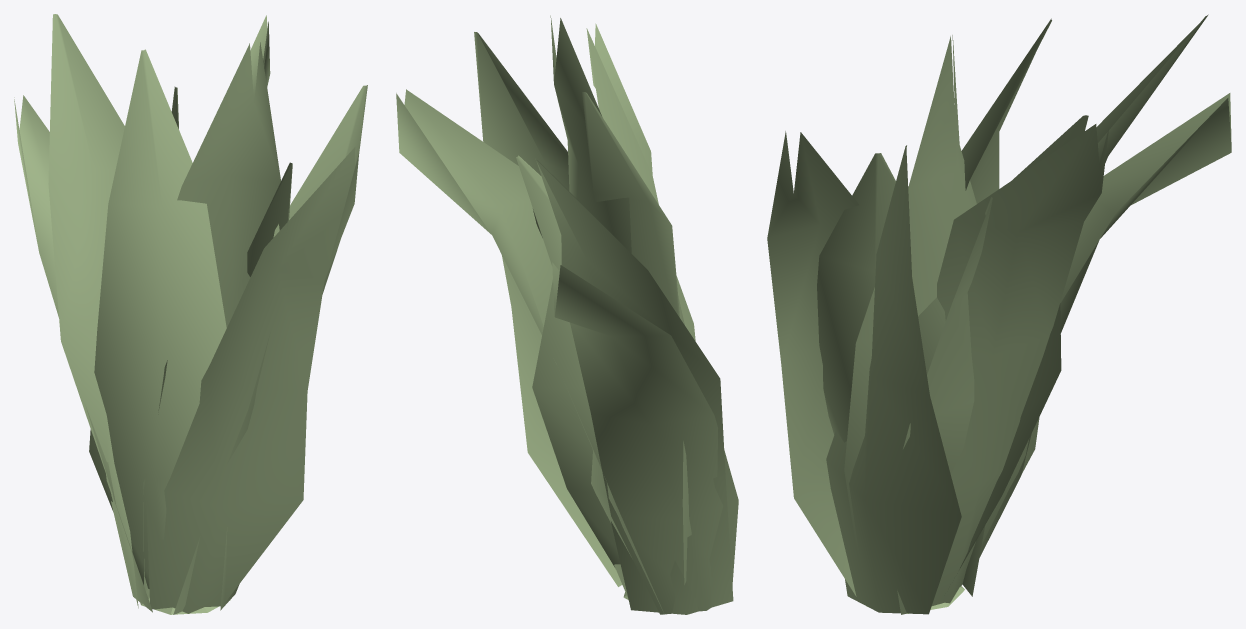
Rendered from kelp_b.glb.
The picture shows the model from 3 angles, left to right: view 1: azimuth 30°, elevation 25°; view 2: azimuth 150°, elevation 25°; view 3: azimuth 270°, elevation 25°; orthographic projection. The views are drawn at different scales.
Parts seen in each view (by area): view 1: kelp_b; view 2: kelp_b; view 3: kelp_b.
Part boxes in pixels (left/top/right/bottom): kelp_b: left=14, top=14, right=367, bottom=614; kelp_b: left=396, top=15, right=738, bottom=614; kelp_b: left=767, top=14, right=1231, bottom=614.
Bounding box in the file's own units: 1.51 × 2.8 × 1.94.
